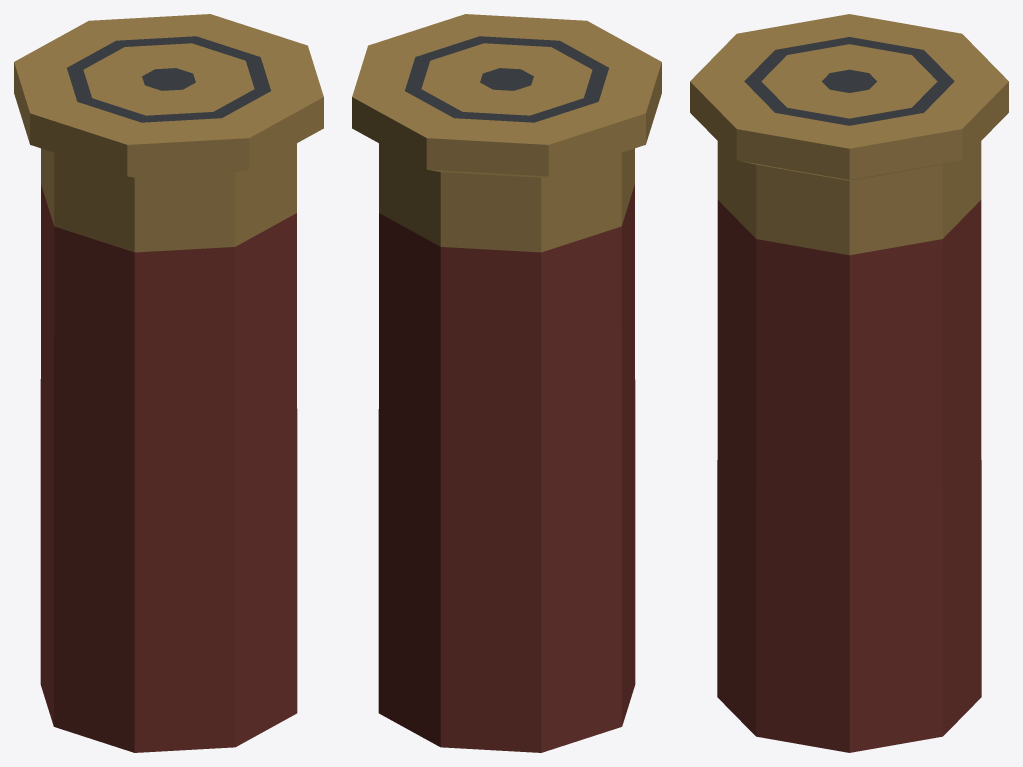
File: SM_Item_Bullet_Shotgun_01.fbx
The picture shows the model from 3 angles, left to right: view 1: azimuth 30°, elevation 25°; view 2: azimuth 150°, elevation 25°; view 3: azimuth 270°, elevation 25°; orthographic projection.
Parts seen in each view (by area): view 1: SM_Item_Bullet_Shotgun_01; view 2: SM_Item_Bullet_Shotgun_01; view 3: SM_Item_Bullet_Shotgun_01.
Part boxes in pixels (box(x1,y1,x2,y2)): SM_Item_Bullet_Shotgun_01: box(14, 14, 323, 752); SM_Item_Bullet_Shotgun_01: box(352, 14, 661, 752); SM_Item_Bullet_Shotgun_01: box(690, 14, 1008, 752).
Bounding box in the file's own units: 2.82 × 6.02 × 2.82.
